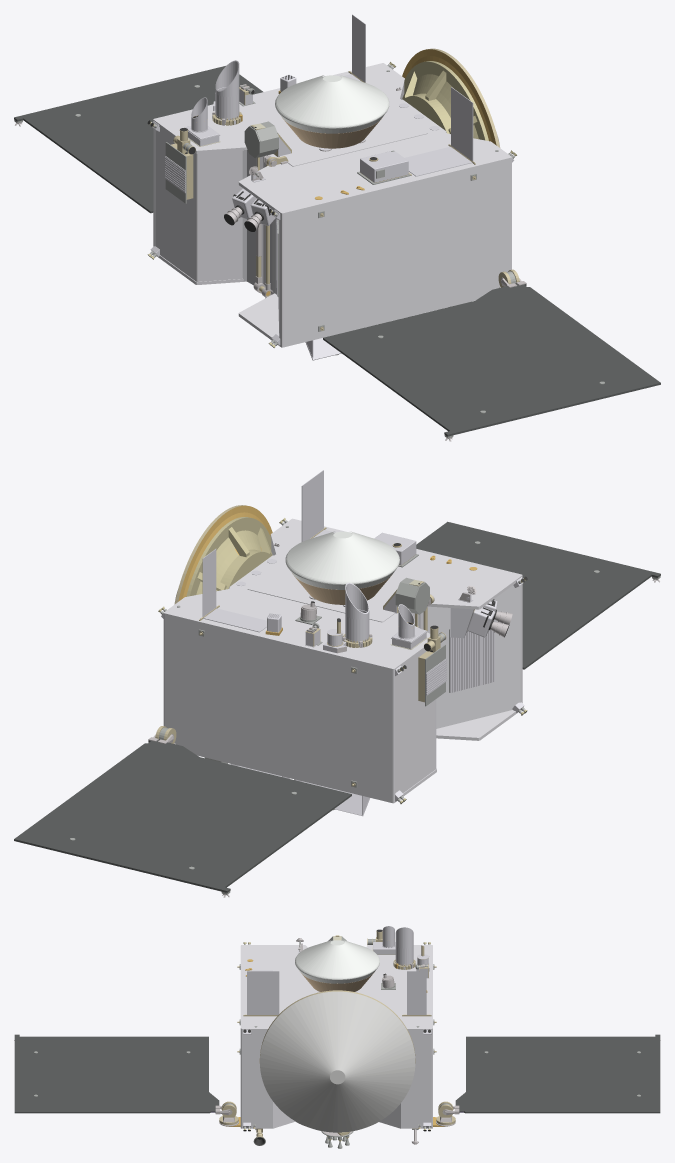
File: osirisrex.glb
3 renders of one model, top to bottom at view 1: azimuth 30°, elevation 25°; view 2: azimuth 150°, elevation 25°; view 3: azimuth 270°, elevation 25°, orthographic. The views are drawn at different scales.
Parts seen in each view (by area): view 1: Main Layer; view 2: Main Layer; view 3: Main Layer.
Part boxes in pixels (x1,y1,x2,y2): Main Layer: (14, 14, 660, 441); Main Layer: (14, 470, 660, 897); Main Layer: (14, 926, 660, 1148).
Size of the model in its own units: 13.72 by 12.01 by 34.65.
Materials: 1 (1 with a texture image).
